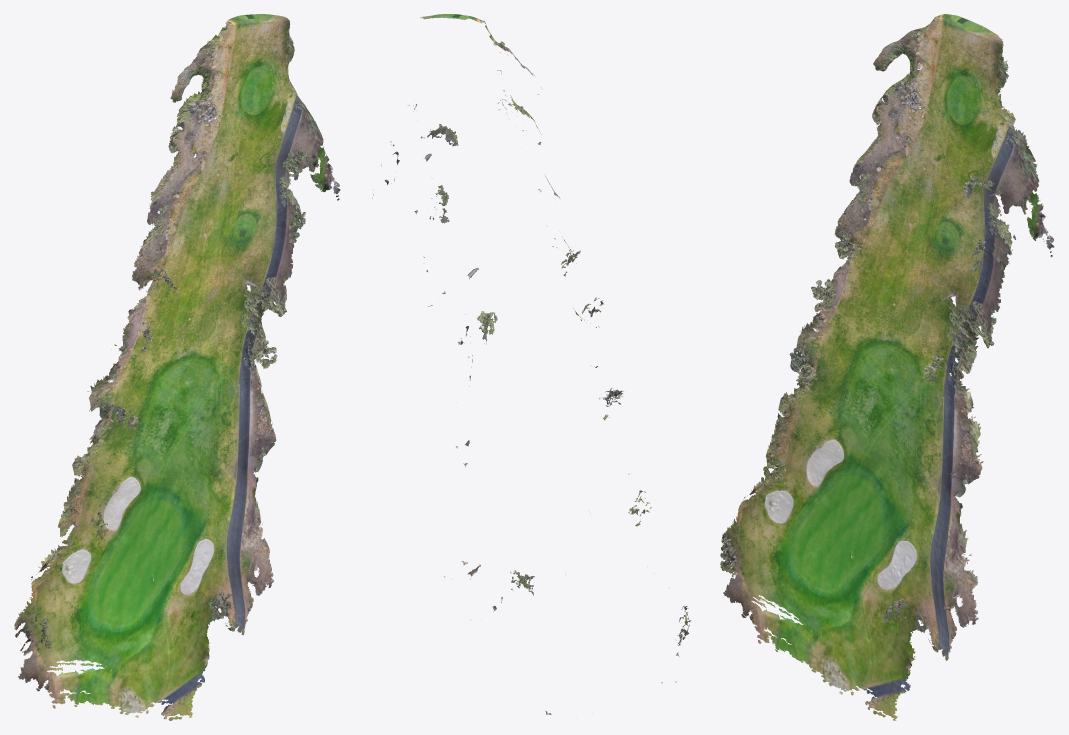
The picture shows the model from 3 angles, left to right: view 1: azimuth 30°, elevation 25°; view 2: azimuth 150°, elevation 25°; view 3: azimuth 330°, elevation 25°; orthographic projection. The views are drawn at different scales.
Bounding box in the file's own units: 84 × 171 × 16.62.
Materials: 13 (13 with a texture image).
